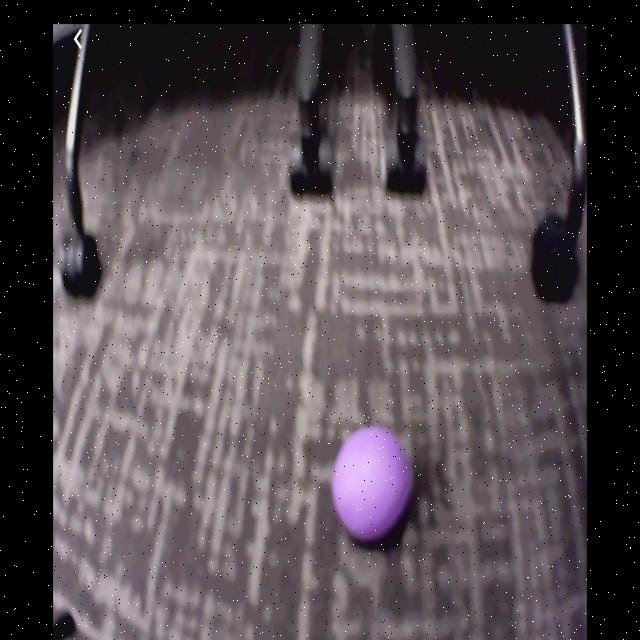ball: (334, 427, 414, 542)
